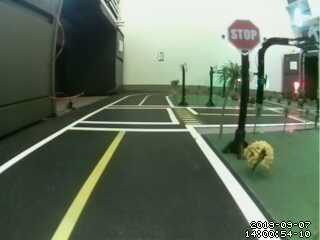Stop_Sign: (224, 17, 271, 58)
